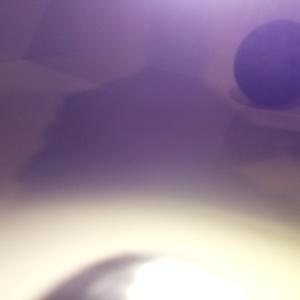alive_ball: (42, 250, 280, 300)
dead_ball: (234, 21, 300, 108)
